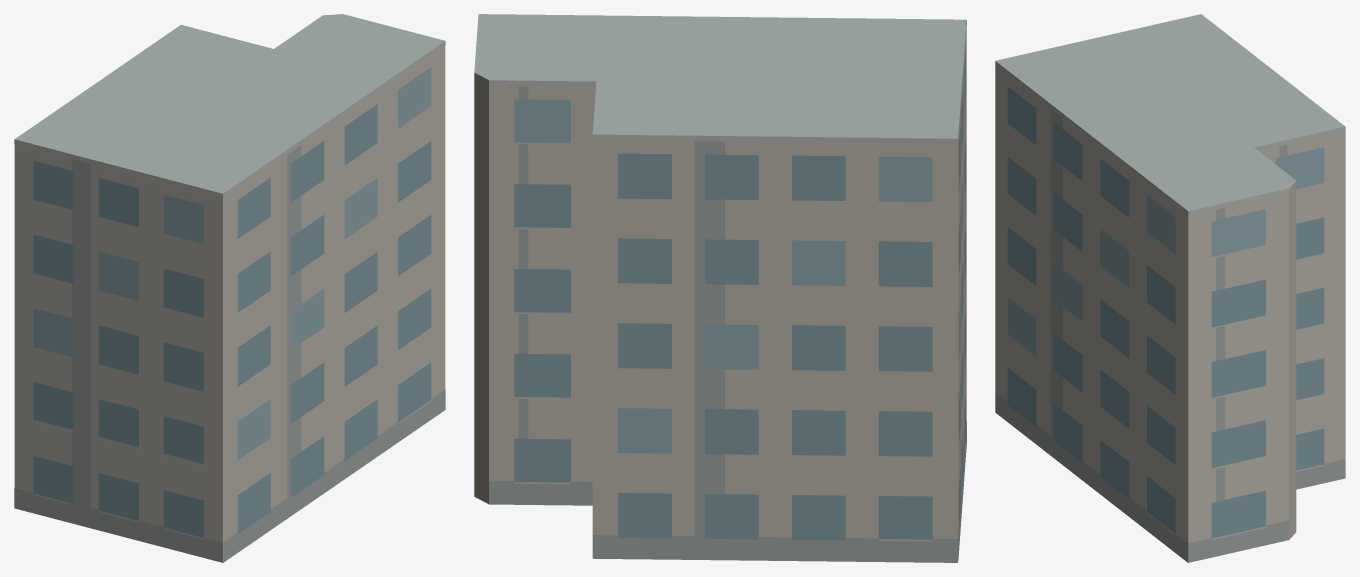
Rendered from survey-upis-32783856.glb.
3 renders of one model, left to right at view 1: azimuth 30°, elevation 25°; view 2: azimuth 150°, elevation 25°; view 3: azimuth 270°, elevation 25°, orthographic. The views are drawn at different scales.
Parts seen in each view (by area): view 1: survey-upis-32783856.tmp; view 2: survey-upis-32783856.tmp; view 3: survey-upis-32783856.tmp.
Part boxes in pixels (x1,y1,x2,y2): survey-upis-32783856.tmp: (14,14,445,562); survey-upis-32783856.tmp: (474,14,966,562); survey-upis-32783856.tmp: (995,14,1345,562).
Size of the model in its own units: 22.02 by 18.3 by 16.53.
